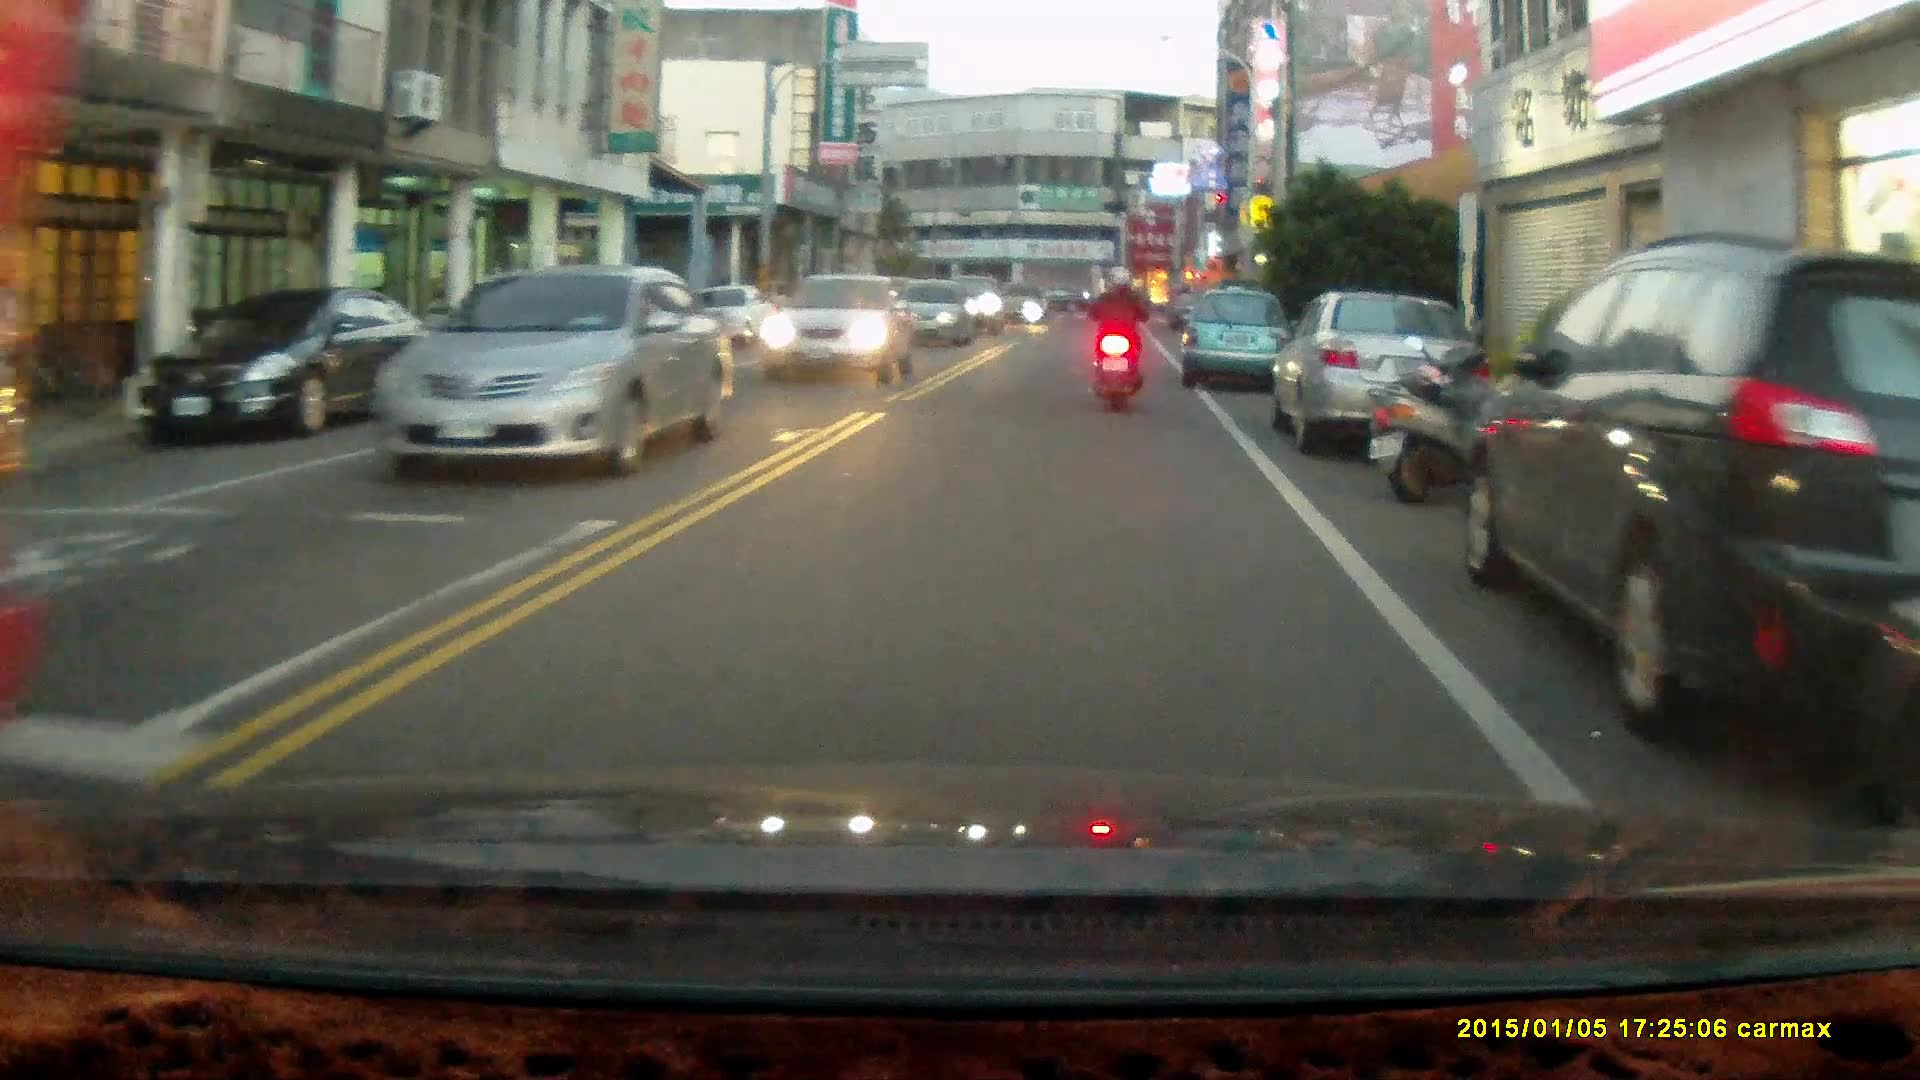rider: (1081, 263, 1147, 416)
vehicle: (1463, 229, 1920, 748), (367, 266, 738, 476), (127, 284, 431, 448), (1278, 299, 1476, 468), (759, 279, 917, 390), (1183, 291, 1295, 398), (894, 283, 978, 352)
